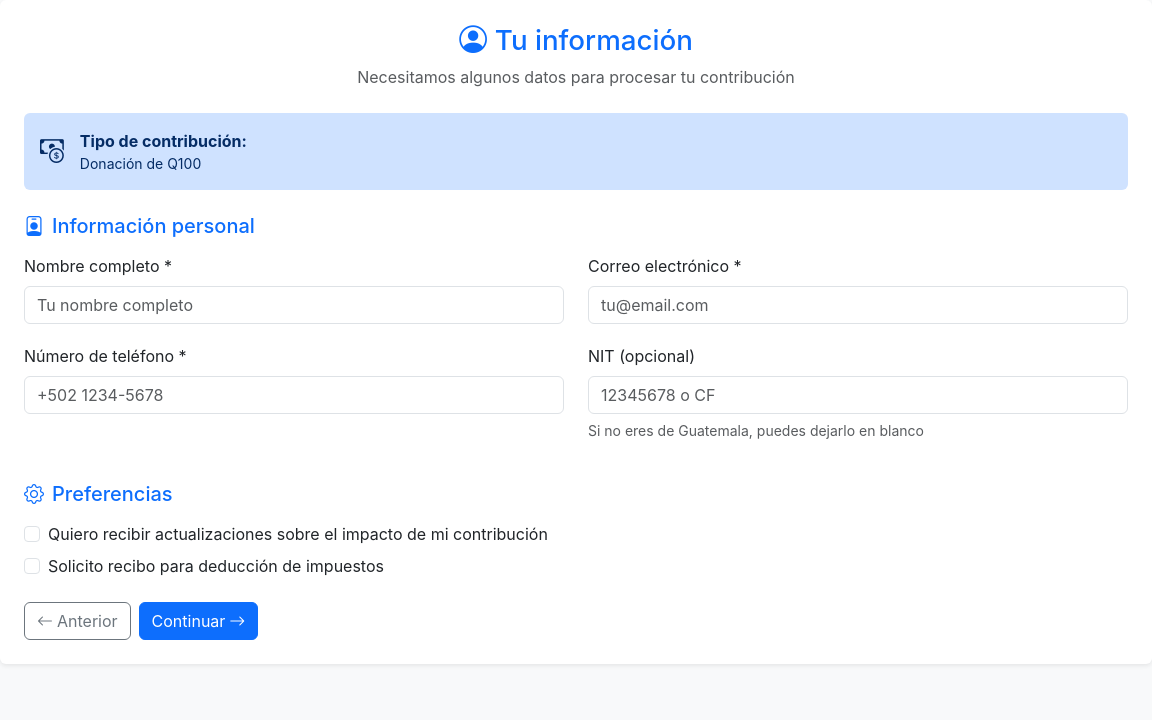
Test case: DonorInformation › validates required fields
The image size is (1152, 720).
Click the button "Continuar": x=198, y=621 x1=139 y1=602 x2=258 y2=640
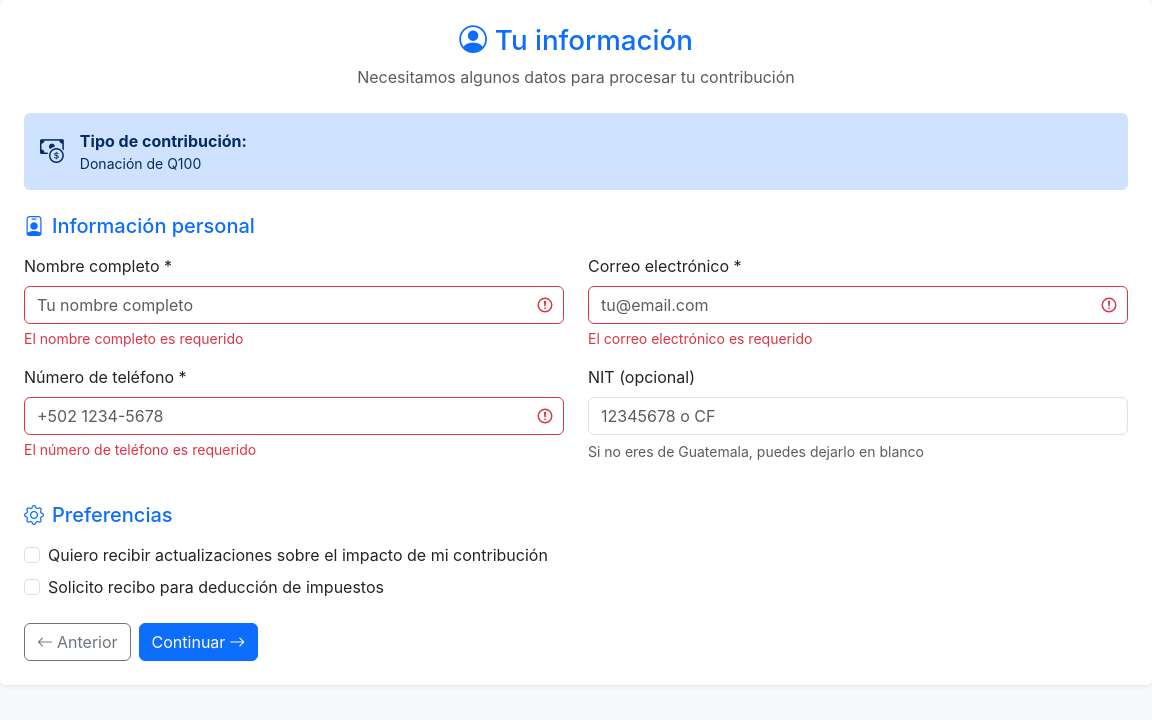
Check: the text "El nombre completo es requerido" is shown, box x1=24 y1=330 x2=243 y2=347
Check: the text "El correo electrónico es requerido" is shown, box x1=588 y1=330 x2=812 y2=347
Check: the text "El número de teléfono es requerido" is shown, box x1=24 y1=441 x2=256 y2=458
